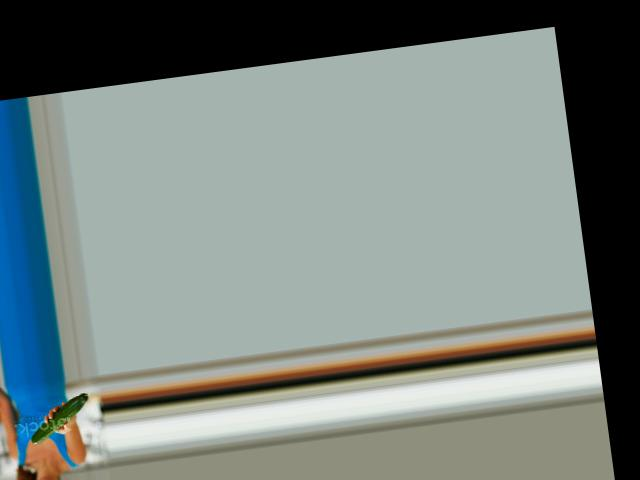cucumber: (25, 392, 92, 444)
